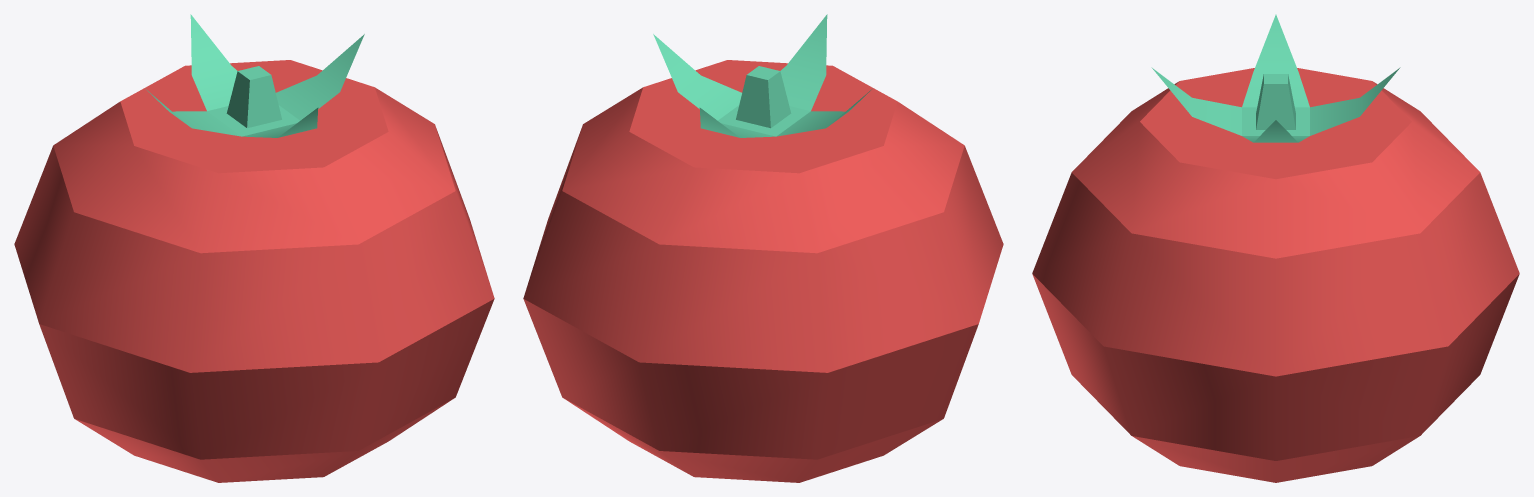
Rendered from tomato.GLB.
The picture shows the model from 3 angles, left to right: view 1: azimuth 30°, elevation 25°; view 2: azimuth 150°, elevation 25°; view 3: azimuth 270°, elevation 25°; orthographic projection.
Parts seen in each view (by area): view 1: tomato.002; view 2: tomato.002; view 3: tomato.002.
Part boxes in pixels (x1,y1,x2,y2): tomato.002: (14,14,494,482); tomato.002: (523,14,1003,482); tomato.002: (1032,14,1519,482).
Size of the model in its own units: 0.1697 by 0.1377 by 0.1697.
